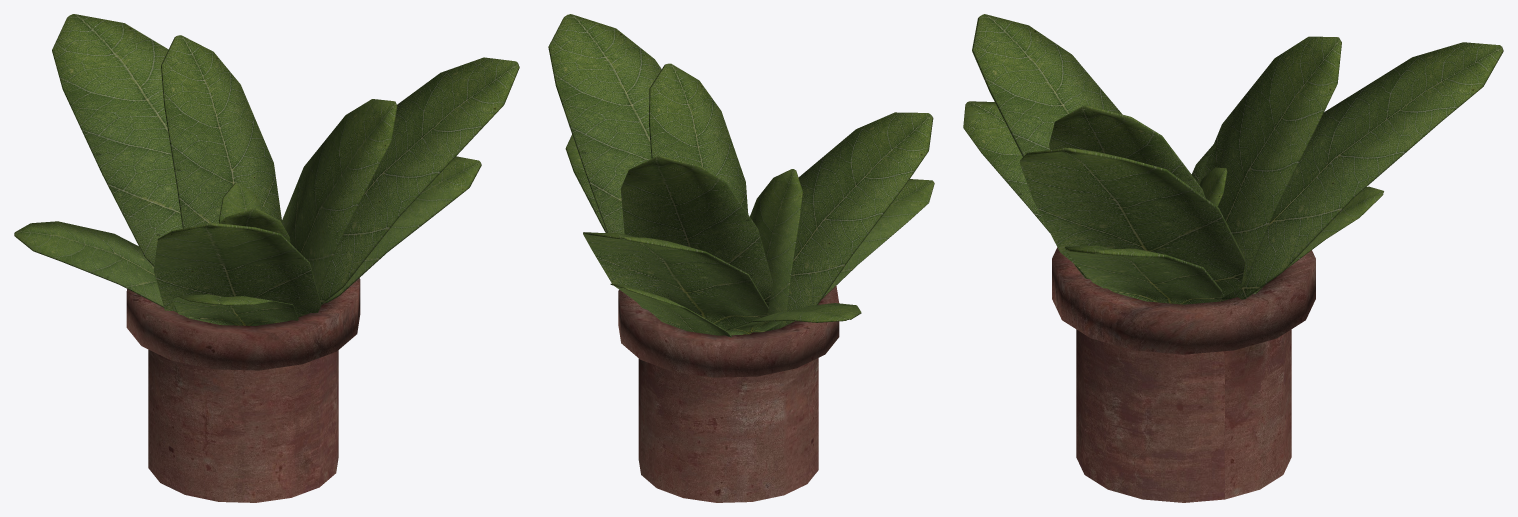
The model's file is Plant_2.fbx.
3 renders of one model, left to right at view 1: azimuth 30°, elevation 25°; view 2: azimuth 150°, elevation 25°; view 3: azimuth 270°, elevation 25°, orthographic. The views are drawn at different scales.
Parts seen in each view (by area): view 1: Plane; view 2: Plane; view 3: Plane.
Boxes of the visible parts, x1=… form: Plane: x1=14, y1=14, x2=519, y2=502; Plane: x1=548, y1=14, x2=934, y2=502; Plane: x1=963, y1=14, x2=1503, y2=502.
Bounding box in the file's own units: 100 × 91.53 × 104.
